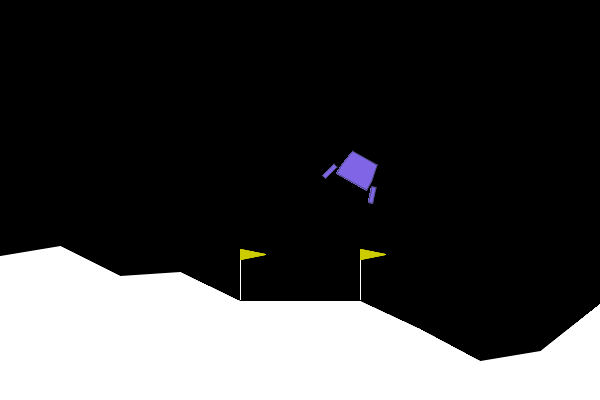lander: (320, 142, 392, 206)
